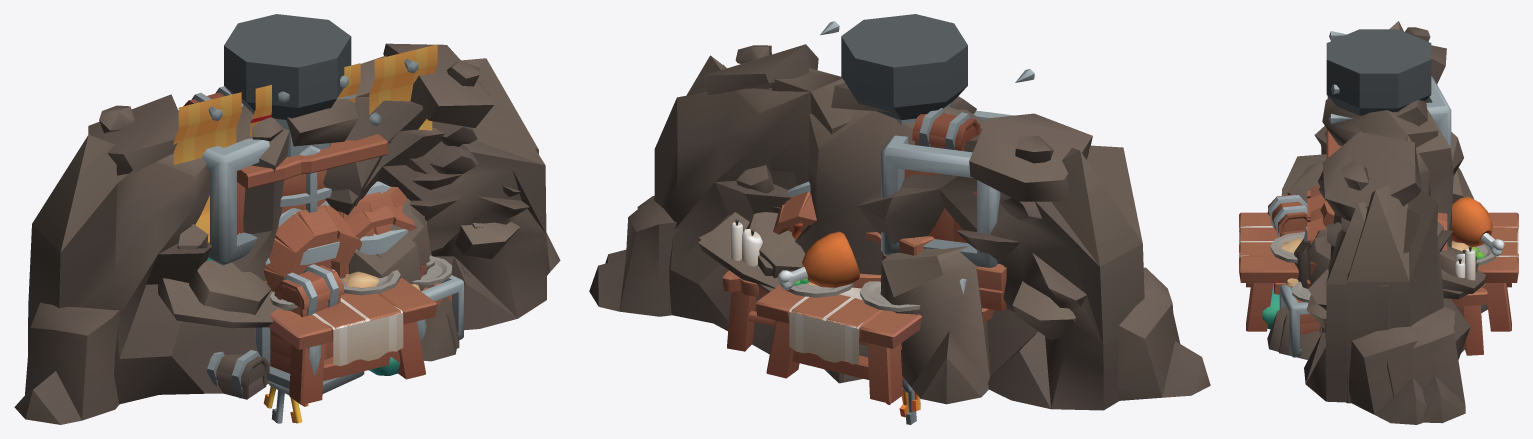
Rendered from dungeon.glb.
3 views of the same model, side by side, from view 1: azimuth 30°, elevation 25°; view 2: azimuth 150°, elevation 25°; view 3: azimuth 270°, elevation 25° (orthographic). The views are drawn at different scales.
Visible parts, largest first — view 1: rubble_large, box_stacked, rubble_half, pillar, banner_triple_yellow, table_long_decorated_A, table_long, keg, table_long_tablecloth_decorated_A, shelves, keg_decorated, bed_decorated (+3 smaller); view 2: rubble_large, rubble_half, pillar, box_stacked, table_long_decorated_A, table_long, table_long_tablecloth_decorated_A, bed_decorated, keg_decorated, crates_stacked, keyring_hanging; view 3: rubble_half, rubble_large, pillar, table_long_decorated_A, table_long, bed_decorated, box_stacked, keg_decorated, keg, banner_triple_yellow, table_long_tablecloth_decorated_A.
Part boxes in pixels (left/top/right/bottom): rubble_large: left=14, top=82, right=560, bottom=424; box_stacked: left=178, top=86, right=426, bottom=399; rubble_half: left=323, top=43, right=538, bottom=348; pillar: left=224, top=14, right=351, bottom=156; banner_triple_yellow: left=173, top=44, right=437, bottom=242; table_long_decorated_A: left=268, top=269, right=436, bottom=404; table_long: left=269, top=278, right=436, bottom=404; keg: left=264, top=201, right=361, bottom=291; table_long_tablecloth_decorated_A: left=299, top=298, right=435, bottom=366; shelves: left=237, top=134, right=387, bottom=283; keg_decorated: left=207, top=181, right=426, bottom=278; bed_decorated: left=411, top=255, right=463, bottom=342; rubble_large: left=605, top=64, right=1210, bottom=410; rubble_half: left=589, top=44, right=854, bottom=354; pillar: left=841, top=14, right=967, bottom=125; box_stacked: left=824, top=108, right=1014, bottom=383; table_long_decorated_A: left=755, top=231, right=921, bottom=403; table_long: left=755, top=285, right=919, bottom=403; table_long_tablecloth_decorated_A: left=757, top=296, right=892, bottom=364; bed_decorated: left=722, top=219, right=903, bottom=379; keg_decorated: left=773, top=181, right=1006, bottom=322; crates_stacked: left=852, top=236, right=934, bottom=288; keyring_hanging: left=886, top=378, right=920, bottom=424; rubble_half: left=1278, top=110, right=1484, bottom=423; rubble_large: left=1267, top=21, right=1486, bottom=424; pillar: left=1326, top=29, right=1431, bottom=115; table_long_decorated_A: left=1239, top=196, right=1518, bottom=331; table_long: left=1239, top=212, right=1518, bottom=331; bed_decorated: left=1274, top=246, right=1487, bottom=357; box_stacked: left=1250, top=76, right=1487, bottom=329; keg_decorated: left=1307, top=206, right=1447, bottom=288; keg: left=1307, top=184, right=1325, bottom=218; banner_triple_yellow: left=1329, top=31, right=1353, bottom=124; table_long_tablecloth_decorated_A: left=1239, top=226, right=1518, bottom=257.
Size of the model in its own units: 8.13 by 5.2 by 4.
Materials: 1 (1 with a texture image).
